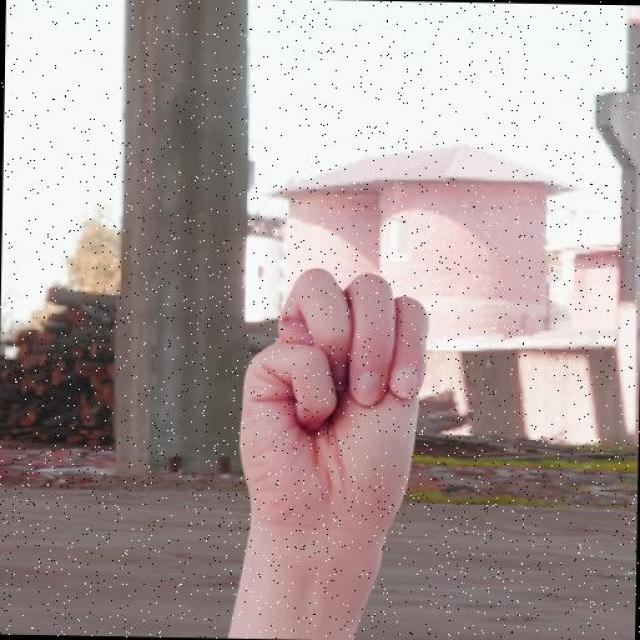M: (233, 262, 436, 529)
